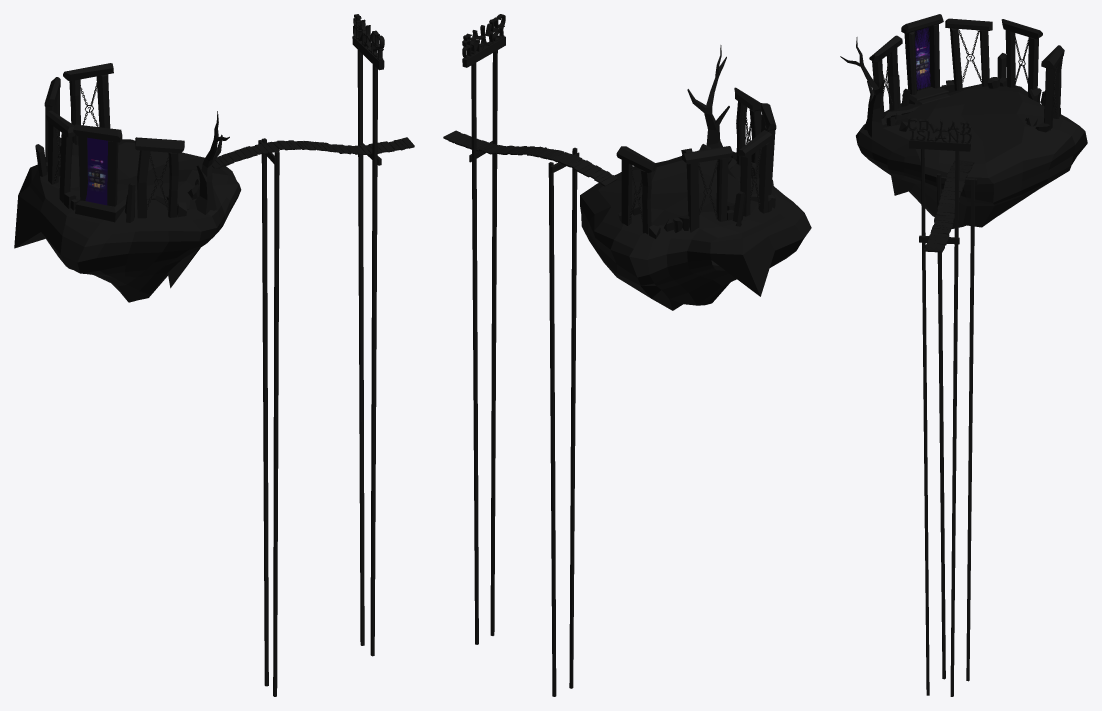
Rendered from collab_island.gltf.
The picture shows the model from 3 angles, left to right: view 1: azimuth 30°, elevation 25°; view 2: azimuth 150°, elevation 25°; view 3: azimuth 270°, elevation 25°; orthographic projection. The views are drawn at different scales.
Visible parts, largest first — view 1: Land, PortalMetaverse, Chain; view 2: Land, Chain; view 3: Land, PortalMetaverse, Chain, PortalMetaverseEffect.
Boxes of the visible parts, x1=… form: Land: x1=14, y1=14, x2=414, y2=696; PortalMetaverse: x1=85, y1=137, x2=107, y2=205; Chain: x1=54, y1=78, x2=168, y2=211; Land: x1=443, y1=14, x2=811, y2=696; Chain: x1=629, y1=107, x2=761, y2=221; Land: x1=840, y1=14, x2=1087, y2=696; PortalMetaverse: x1=915, y1=27, x2=930, y2=89; Chain: x1=883, y1=30, x2=1057, y2=114; PortalMetaverseEffect: x1=915, y1=26, x2=931, y2=90.
Size of the model in its own units: 18.85 by 32.71 by 12.25.
Materials: 3 (2 with a texture image).
